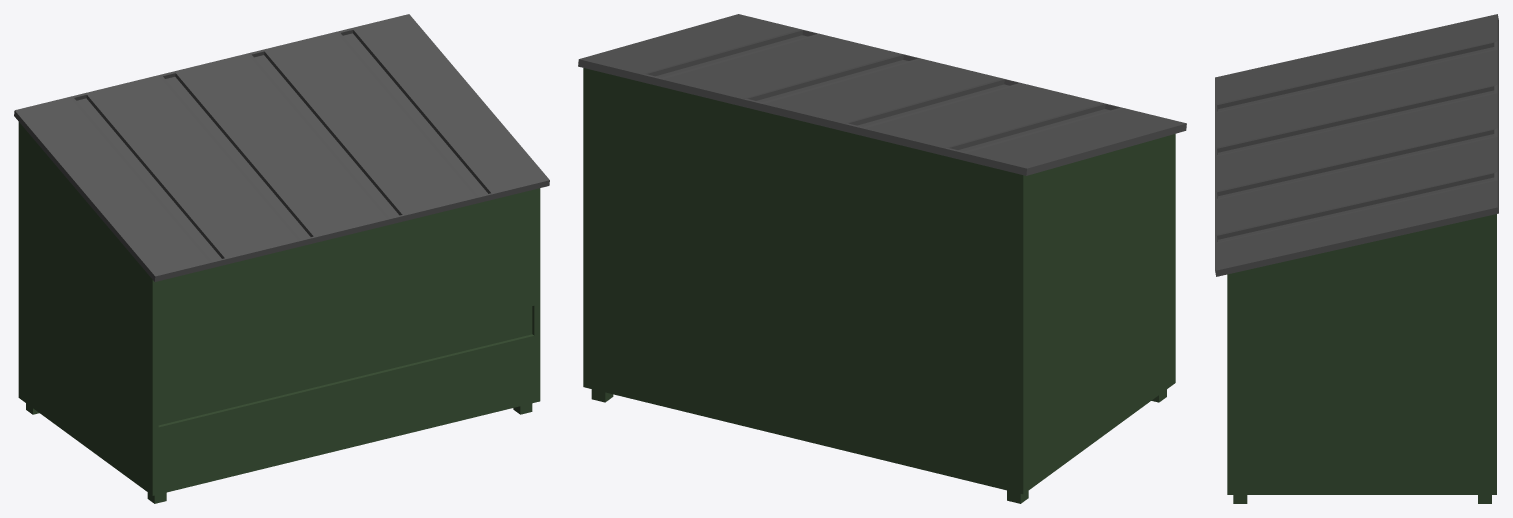
File: 40f26848-4265-4224-980d-e91cad4ddbac.glb
3 renders of one model, left to right at view 1: azimuth 30°, elevation 25°; view 2: azimuth 150°, elevation 25°; view 3: azimuth 270°, elevation 25°, orthographic. The views are drawn at different scales.
Visible parts, largest first — view 1: Dumpster; view 2: Dumpster; view 3: Dumpster.
Boxes of the visible parts, left/top/right/bottom form: Dumpster: left=14, top=14, right=549, bottom=495; Dumpster: left=578, top=14, right=1186, bottom=494; Dumpster: left=1215, top=14, right=1498, bottom=494.
Size of what is drawn, in the model's own units: 1.91 by 1.38 by 1.18.
Materials: 1 (1 with a texture image).
